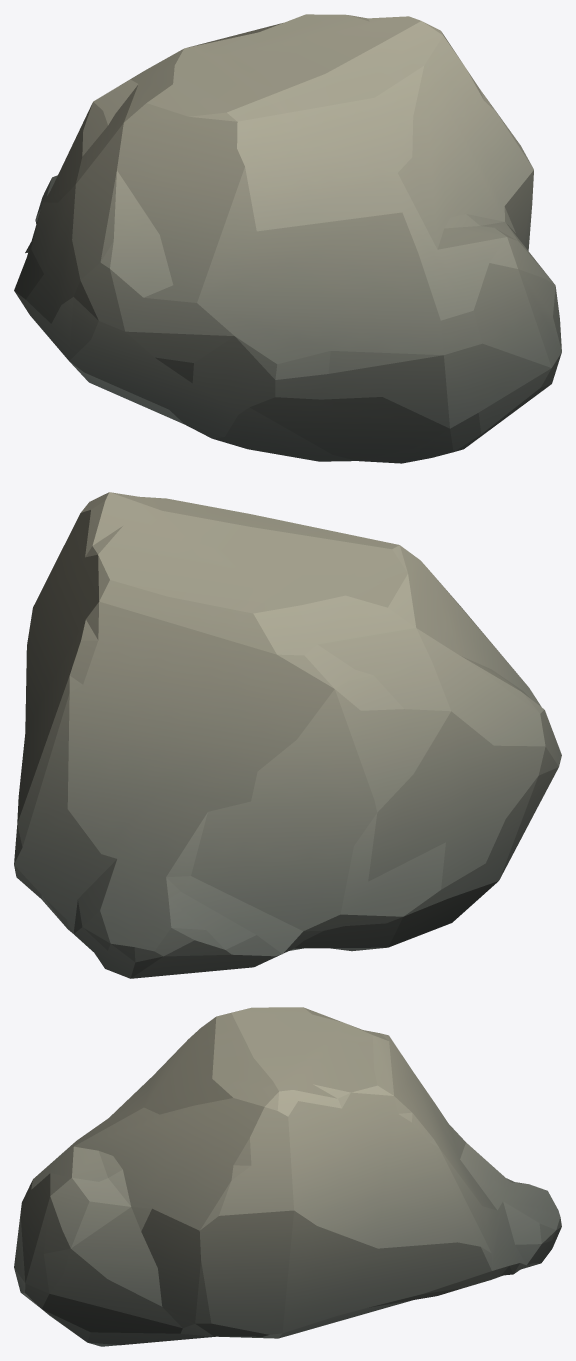
Rendered from rock_2_02.fbx.
3 views of the same model, one above another, from view 1: azimuth 30°, elevation 25°; view 2: azimuth 150°, elevation 25°; view 3: azimuth 270°, elevation 25° (orthographic). The views are drawn at different scales.
Visible parts, largest first — view 1: rock_2_02; view 2: rock_2_02; view 3: rock_2_02.
Boxes of the visible parts, <box> form: rock_2_02: <box>14,14,561,463</box>; rock_2_02: <box>14,492,561,978</box>; rock_2_02: <box>14,1007,561,1346</box>.
Size of the model in its own units: 74.11 by 53.99 by 95.67.
